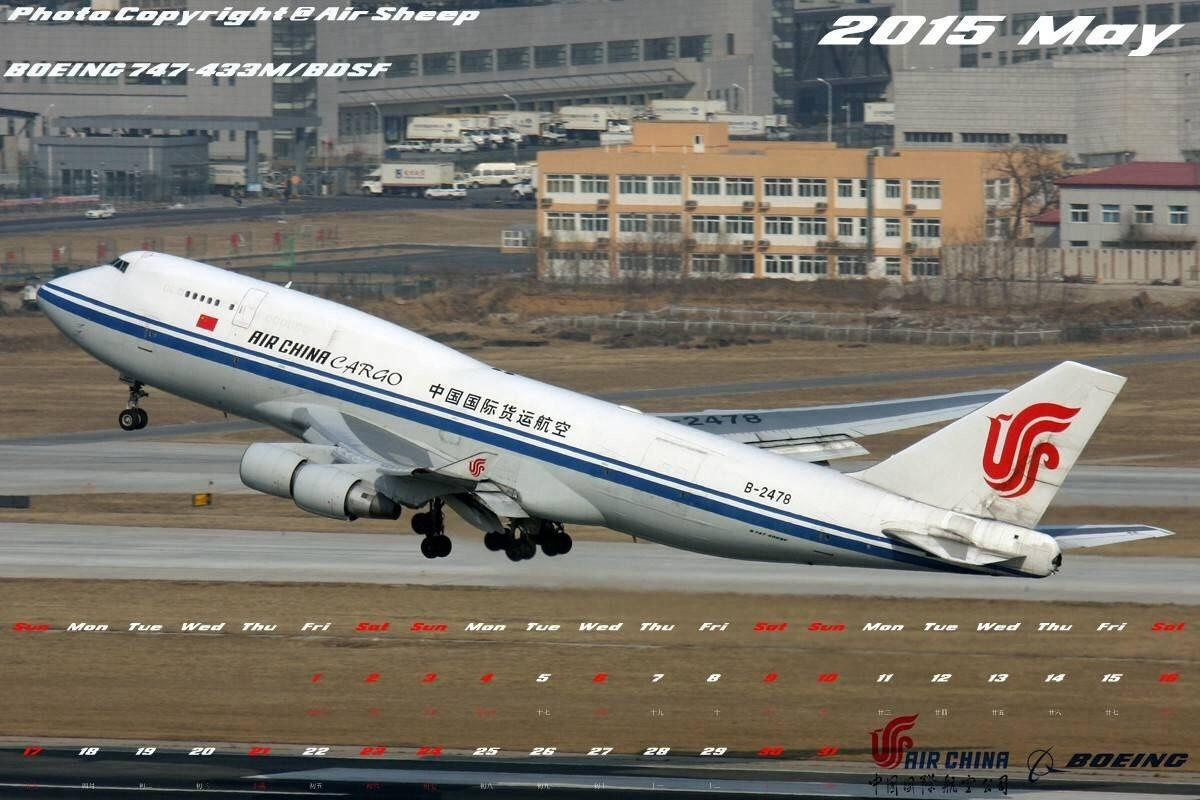airplane: (11, 242, 1173, 567)
